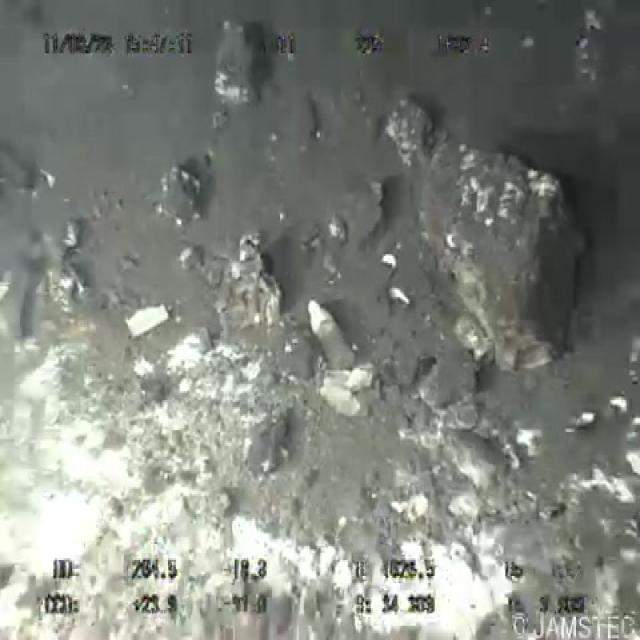plastic: (302, 293, 362, 379)
